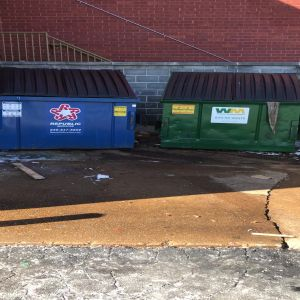Dumpster: (1, 69, 140, 151), (158, 71, 300, 150)
